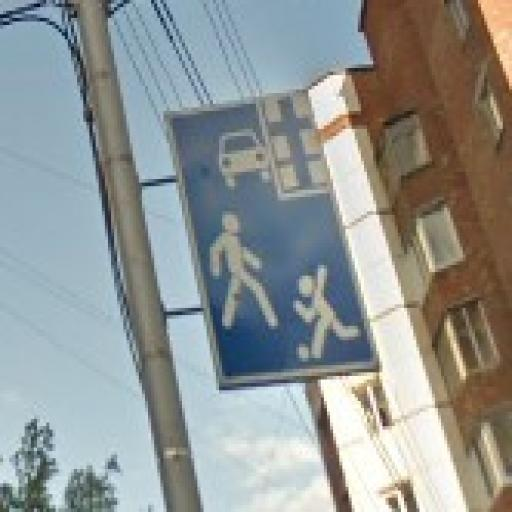traffic_sign: (162, 87, 384, 391)
